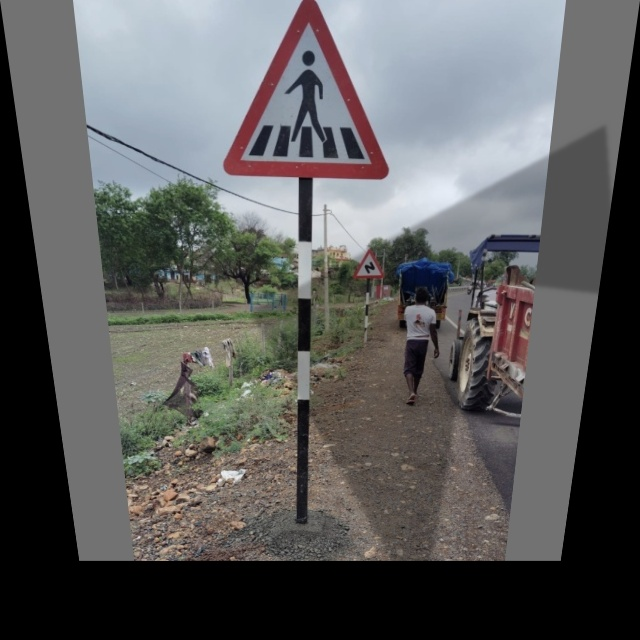Pedestrian_Crossing: (216, 4, 393, 177)
